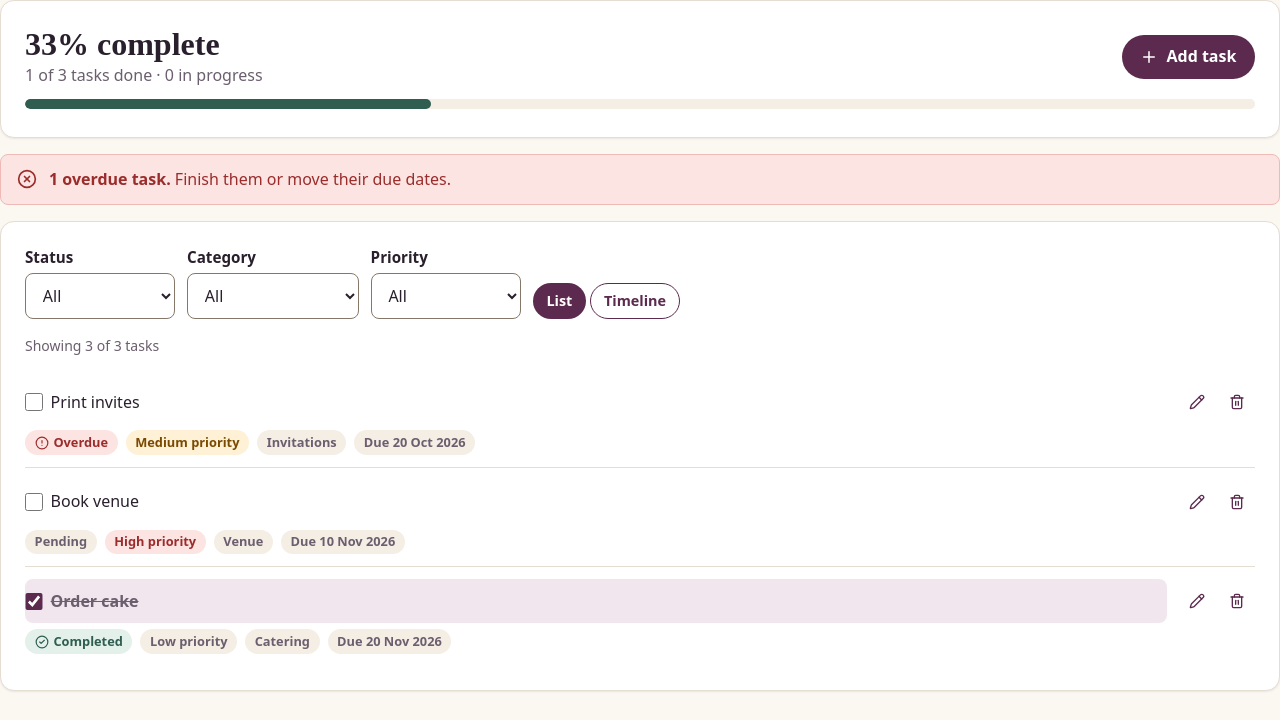
it: TasksTab › filters by status, category and priority, and says when nothing matches
Select "Completed" in the dropdown labelled "Status" at (100, 296), box [25, 273, 175, 318]
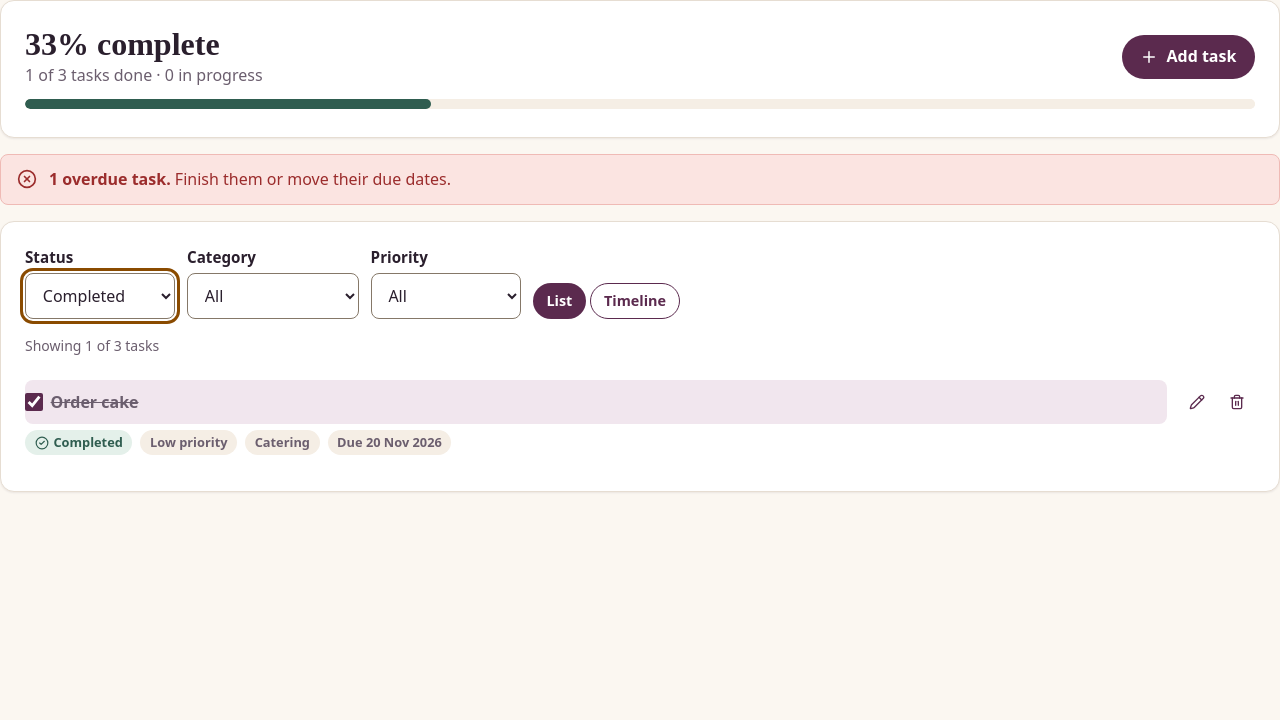
Expected: the text "Order cake" is shown, [51, 390, 139, 415]
Expected: the text "Showing 1 of 3 tasks" is shown, [25, 336, 159, 354]
Select "All" in the dropdown labelled "Status" at (100, 296), box [25, 273, 175, 318]
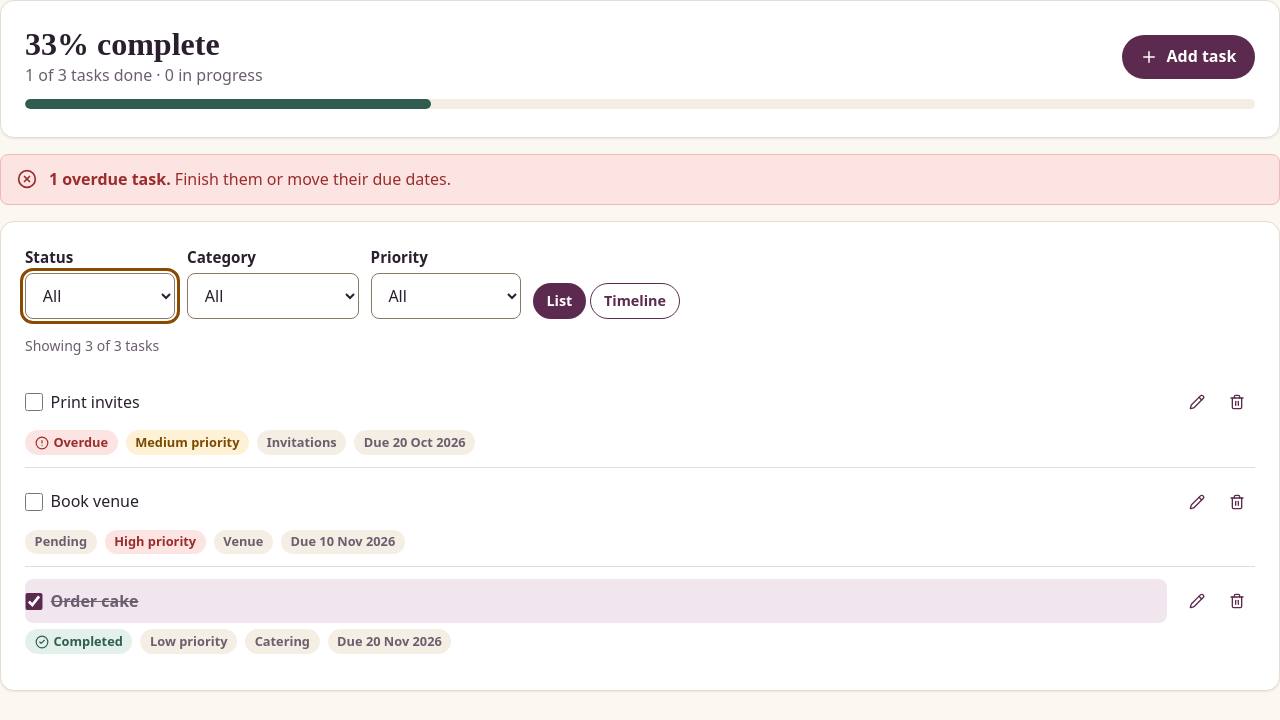
Select "Venue" in the dropdown labelled "Category" at (273, 296), box [187, 273, 359, 318]
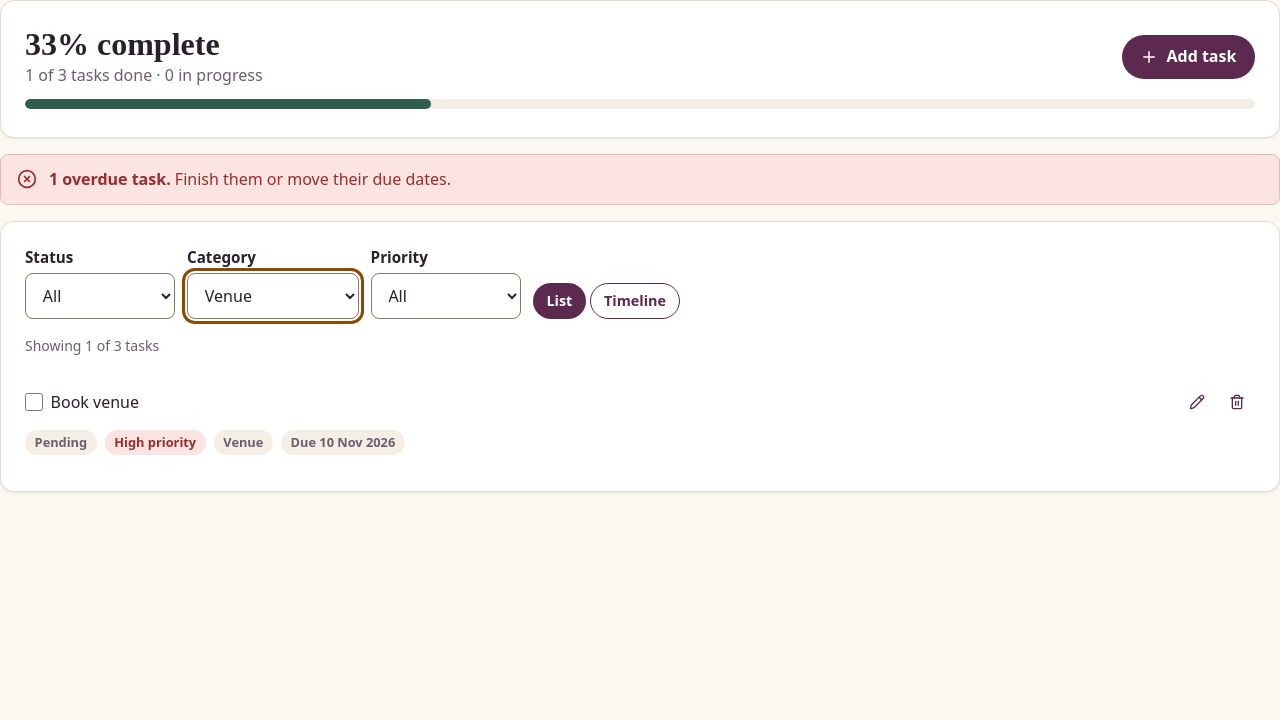
Expected: the text "Showing 1 of 3 tasks" is shown, [25, 336, 159, 354]
Select "Low" in the dropdown labelled "Priority" at (446, 296), box [371, 273, 521, 318]
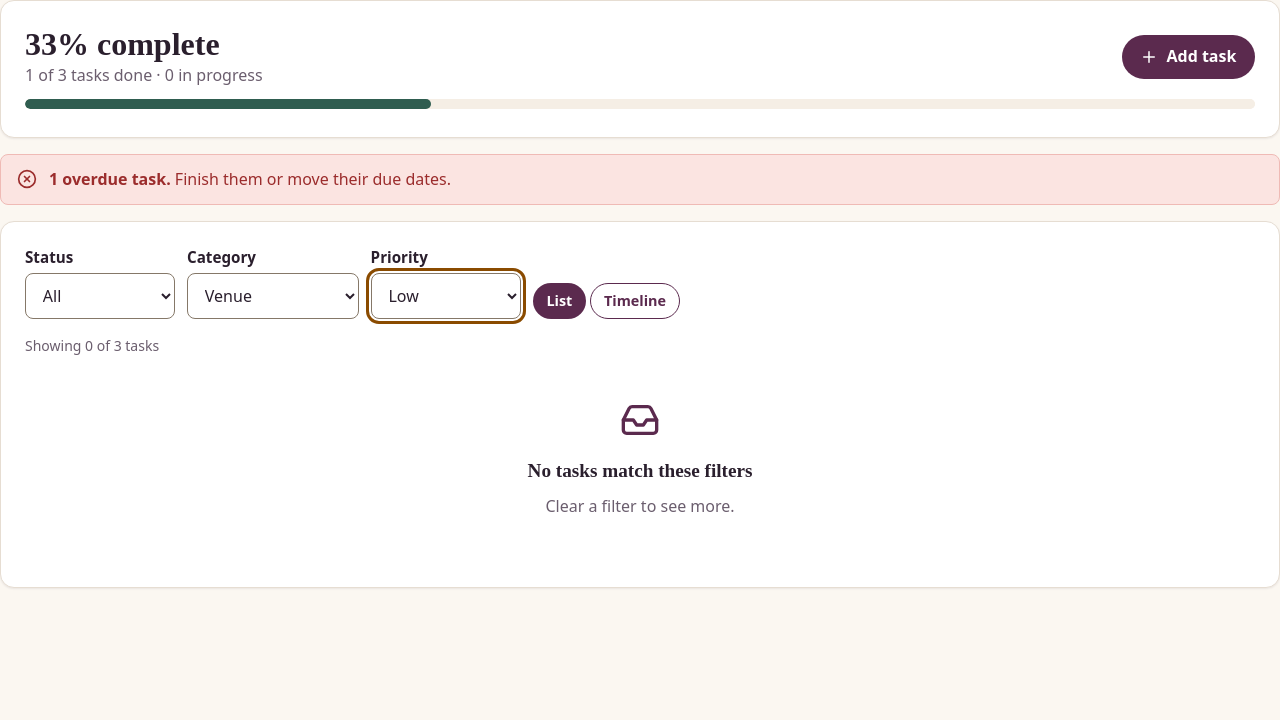
Expected: the heading "No tasks match these filters" is shown, [528, 460, 752, 481]
